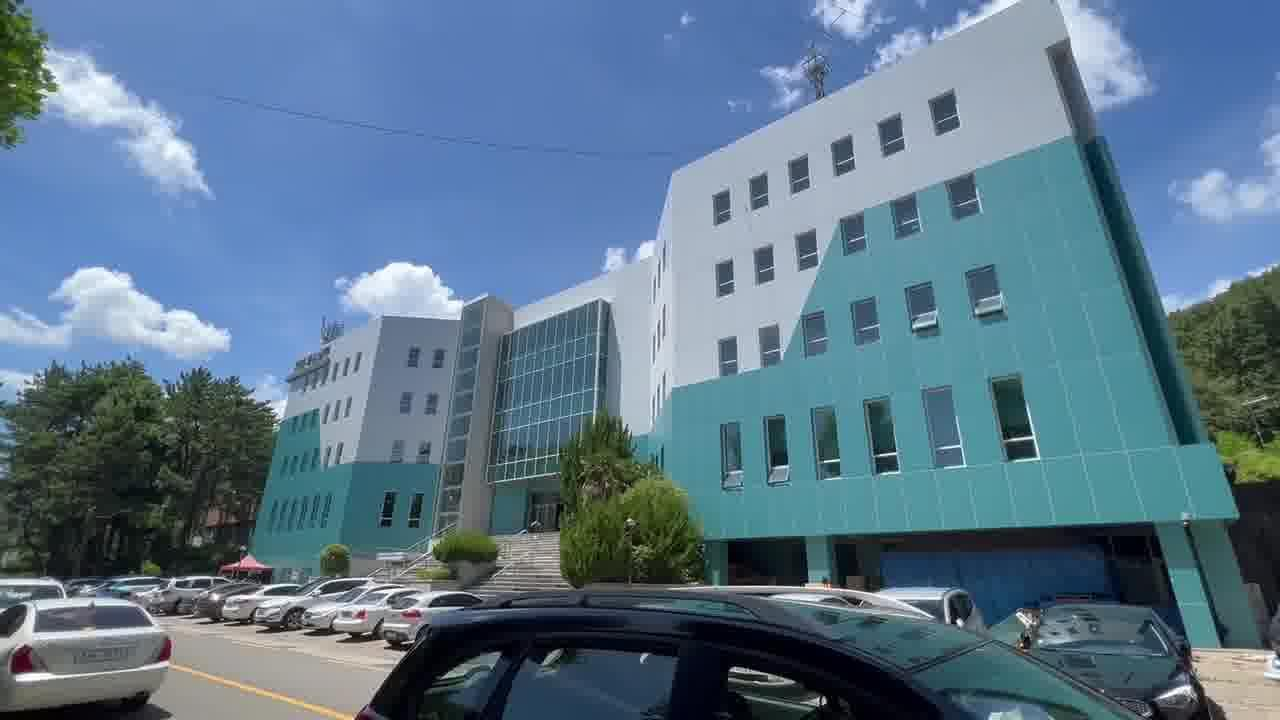building: (263, 132, 1177, 541)
